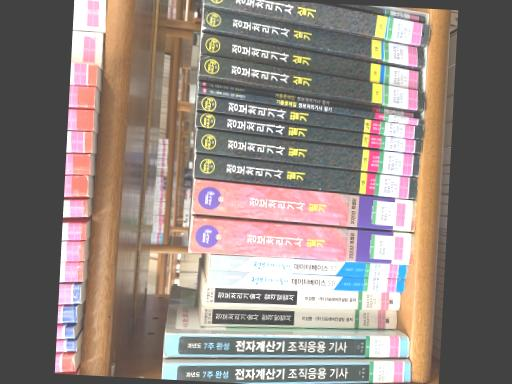book-spine: (201, 6, 424, 67), (199, 31, 422, 91), (199, 54, 424, 109), (191, 180, 416, 230), (188, 215, 414, 264), (194, 128, 419, 176), (193, 152, 417, 199), (204, 0, 430, 46), (196, 94, 423, 139), (195, 110, 422, 153), (198, 86, 423, 125), (198, 80, 422, 118), (163, 333, 409, 357), (161, 361, 410, 384), (210, 254, 406, 278), (203, 286, 400, 309), (201, 305, 397, 328), (208, 270, 404, 291), (338, 4, 424, 21)
